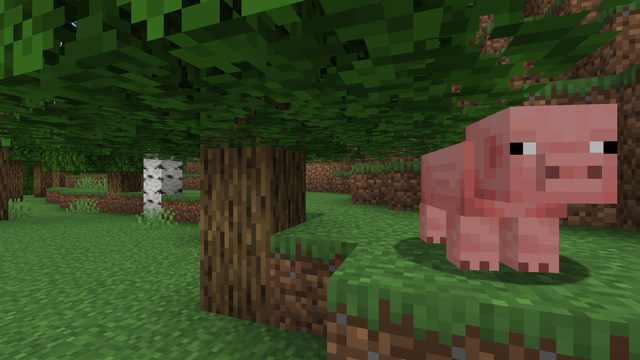cochons: (418, 135, 575, 279)
